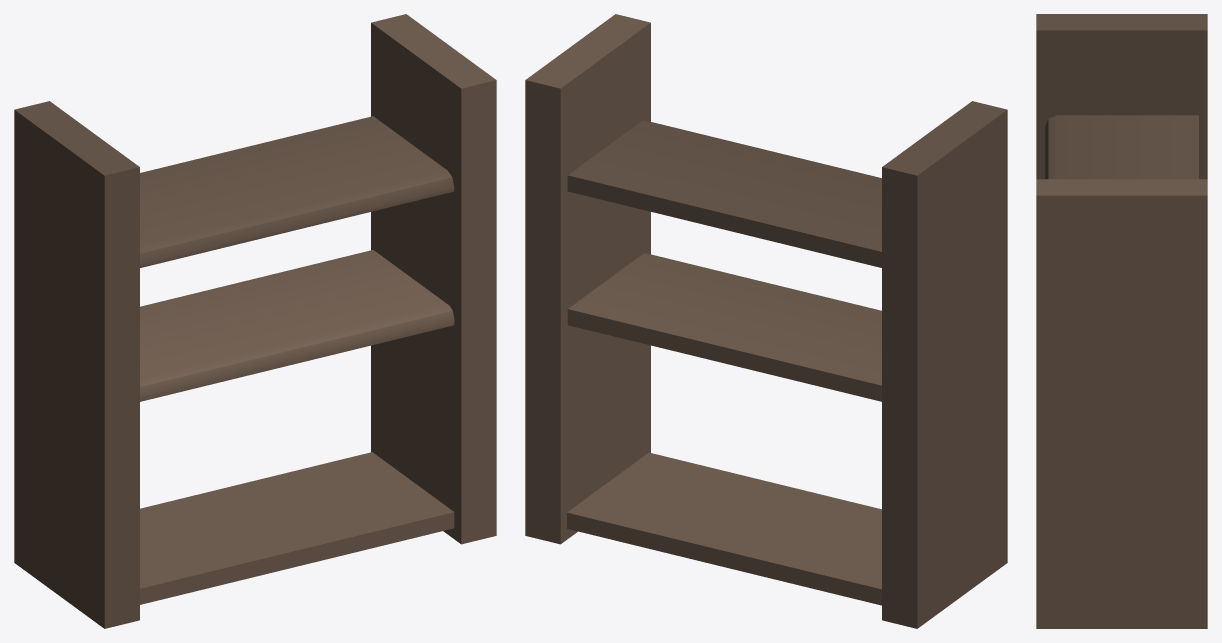
Rendered from mobile a scaffali.fbx.
3 renders of one model, left to right at view 1: azimuth 30°, elevation 25°; view 2: azimuth 150°, elevation 25°; view 3: azimuth 270°, elevation 25°, orthographic. The views are drawn at different scales.
Parts seen in each view (by area): view 1: Cube.273; view 2: Cube.273; view 3: Cube.273.
Boxes of the visible parts, <box> form: Cube.273: <box>14,14,496,628</box>; Cube.273: <box>525,14,1007,628</box>; Cube.273: <box>1036,14,1207,628</box>.
Size of the model in its own units: 174 by 194 by 69.58.
